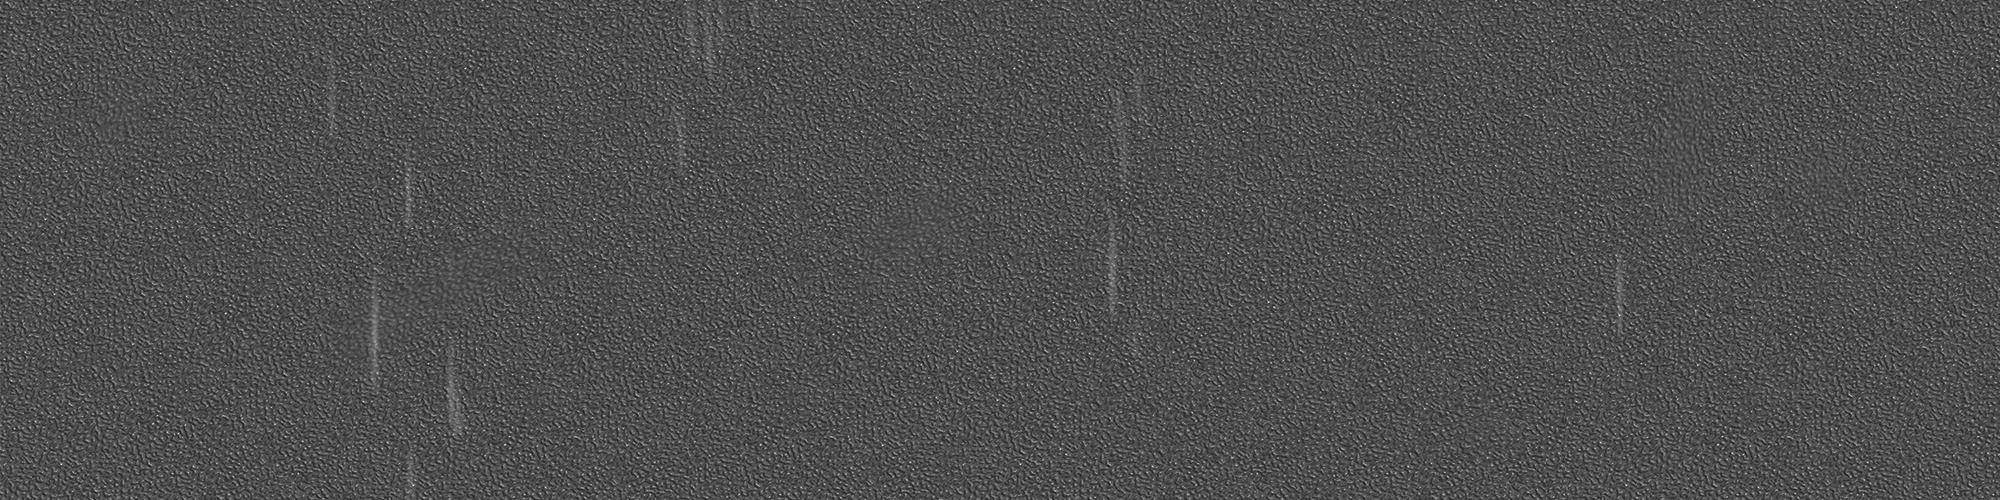Streaks: (679, 4, 730, 93), (1092, 195, 1126, 327), (436, 339, 476, 446), (358, 272, 390, 390), (1602, 244, 1635, 351), (1105, 84, 1136, 195), (665, 99, 696, 181), (395, 140, 420, 239), (321, 52, 347, 145), (395, 437, 430, 500), (739, 3, 765, 40)
